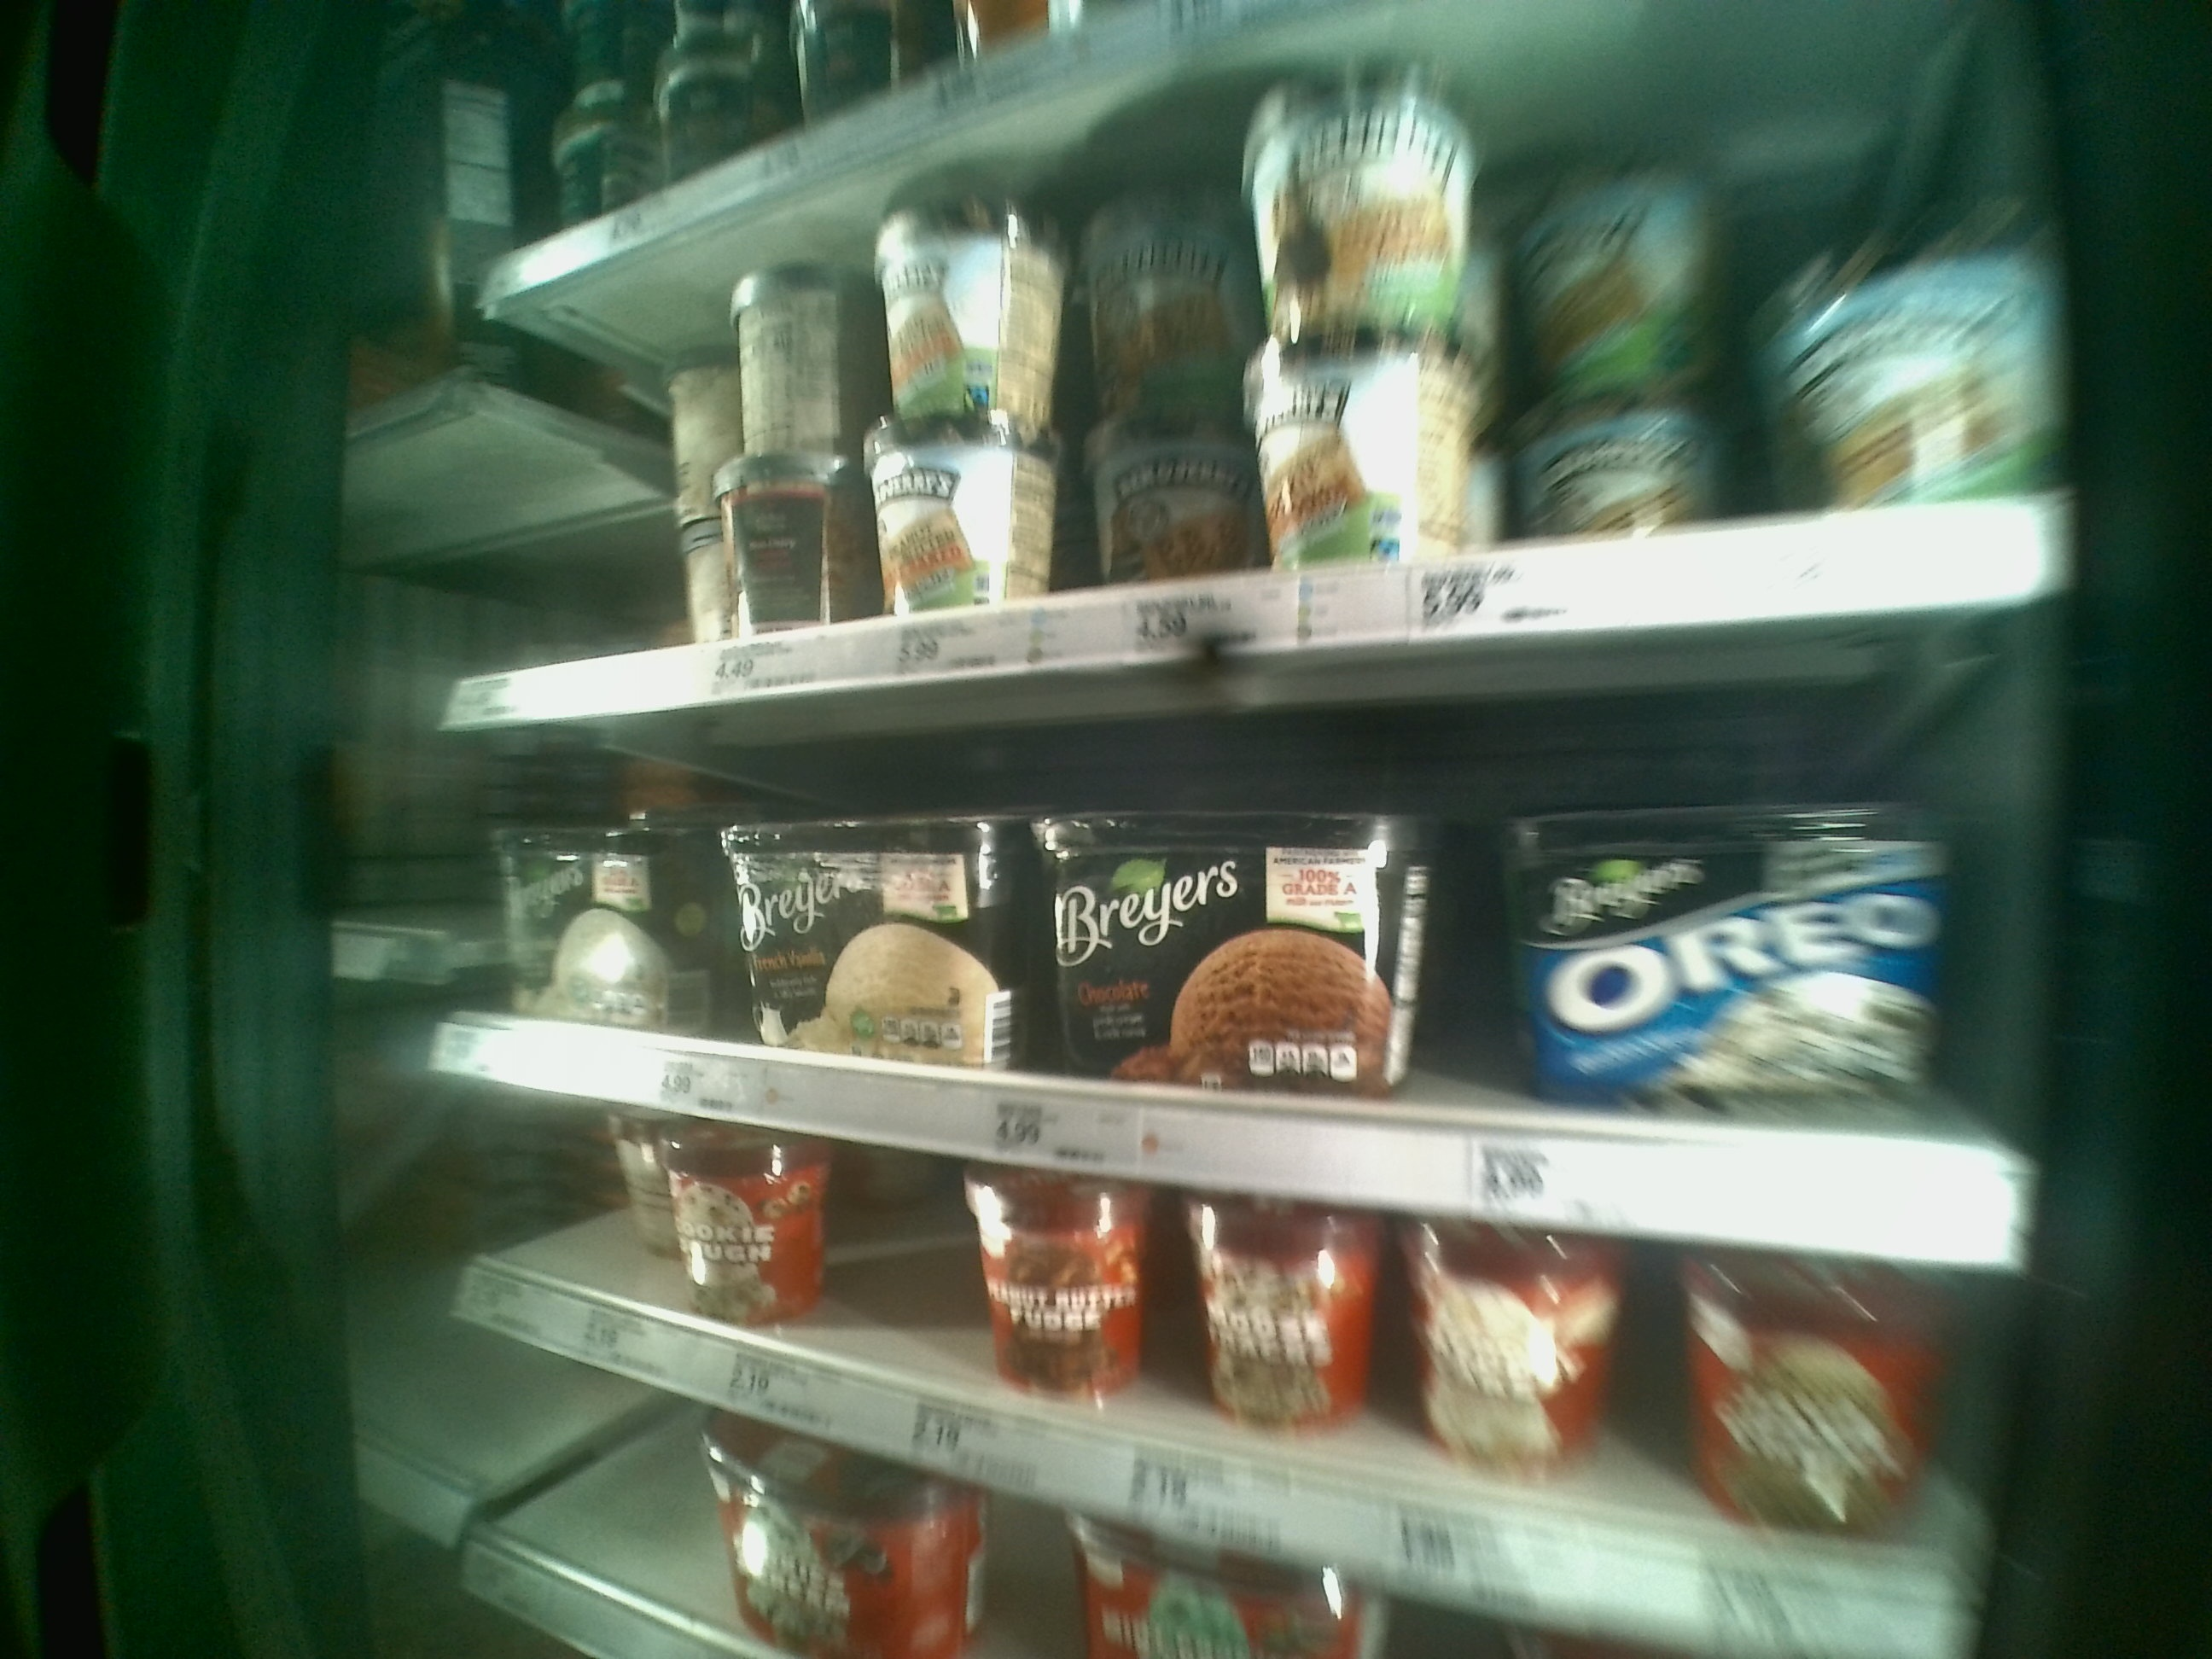shelf: (444, 591, 2043, 1279)
